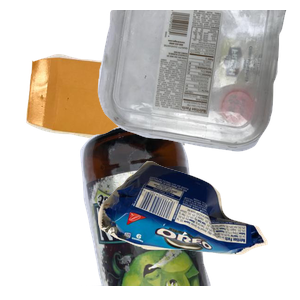glass: (78, 120, 281, 300)
paper: (23, 51, 206, 189)
plastic: (95, 10, 300, 154)
trash: (95, 158, 300, 300)
